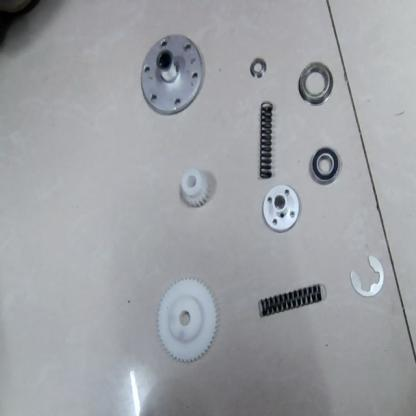FOD: (135, 33, 206, 118), (153, 275, 216, 365), (254, 281, 324, 319), (258, 184, 300, 235), (345, 254, 388, 298), (298, 60, 335, 110), (174, 166, 213, 212), (308, 147, 343, 189), (258, 98, 276, 178), (246, 58, 268, 80)
